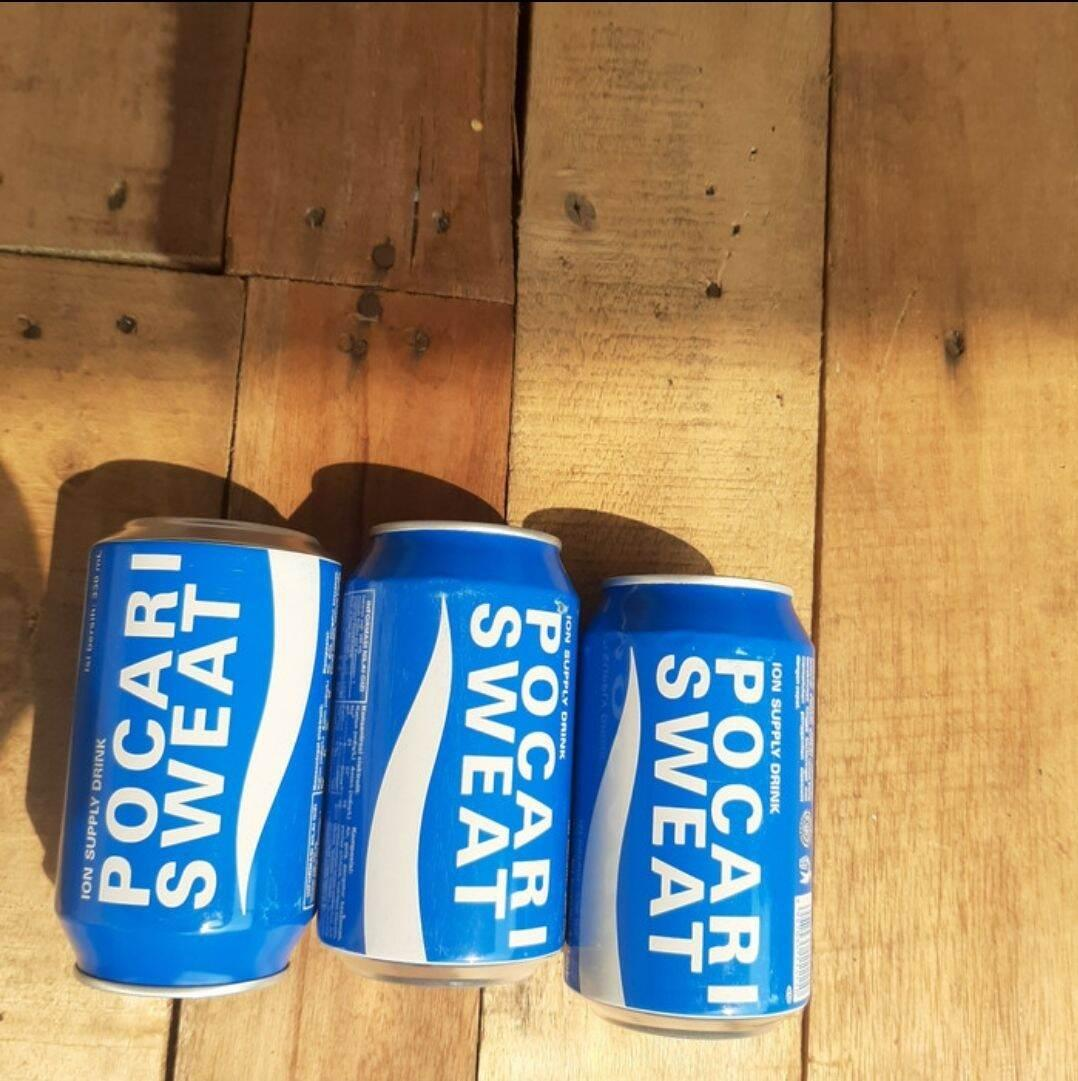metal: (68, 500, 822, 1036)
